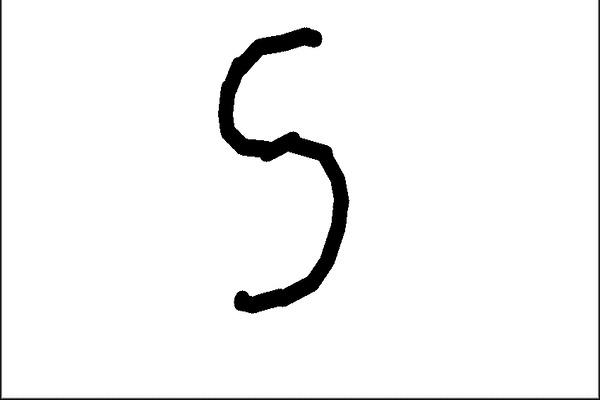S: (211, 23, 355, 316)
